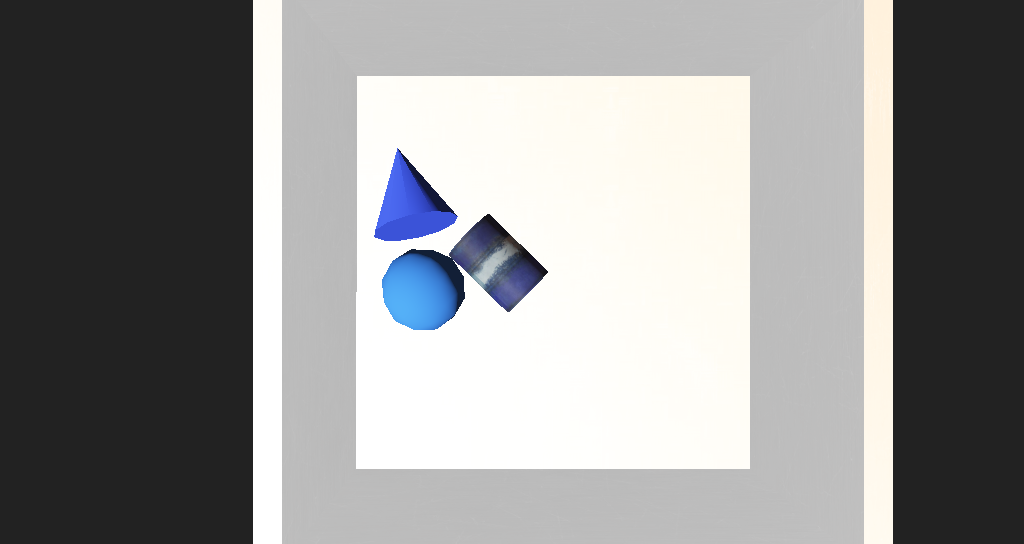cone: (428, 234, 502, 291)
cylinder: (347, 186, 435, 253)
sphere: (371, 253, 438, 301)
